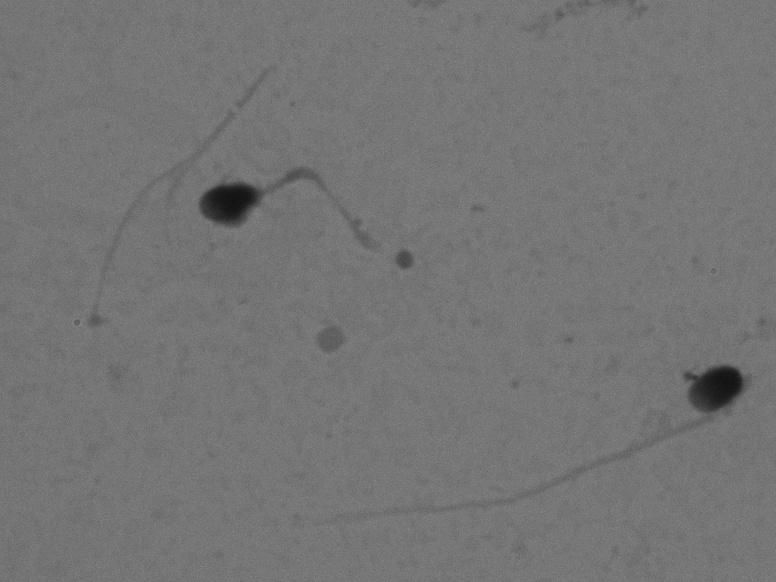Abnormal: (245, 331, 758, 566), (179, 118, 411, 293)
